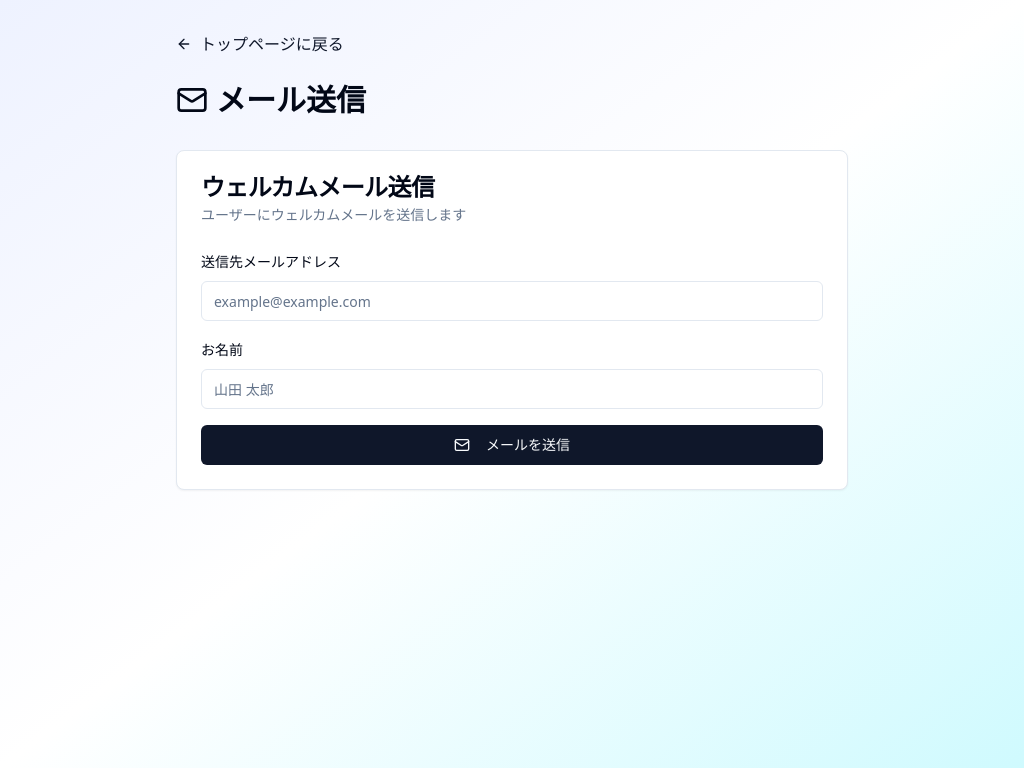
Test case: SendEmailPage Integration › handles API errors gracefully
Type "test@example.com" into the field labelled "送信先メールアドレス" at (512, 301), box x1=201 y1=281 x2=823 y2=321
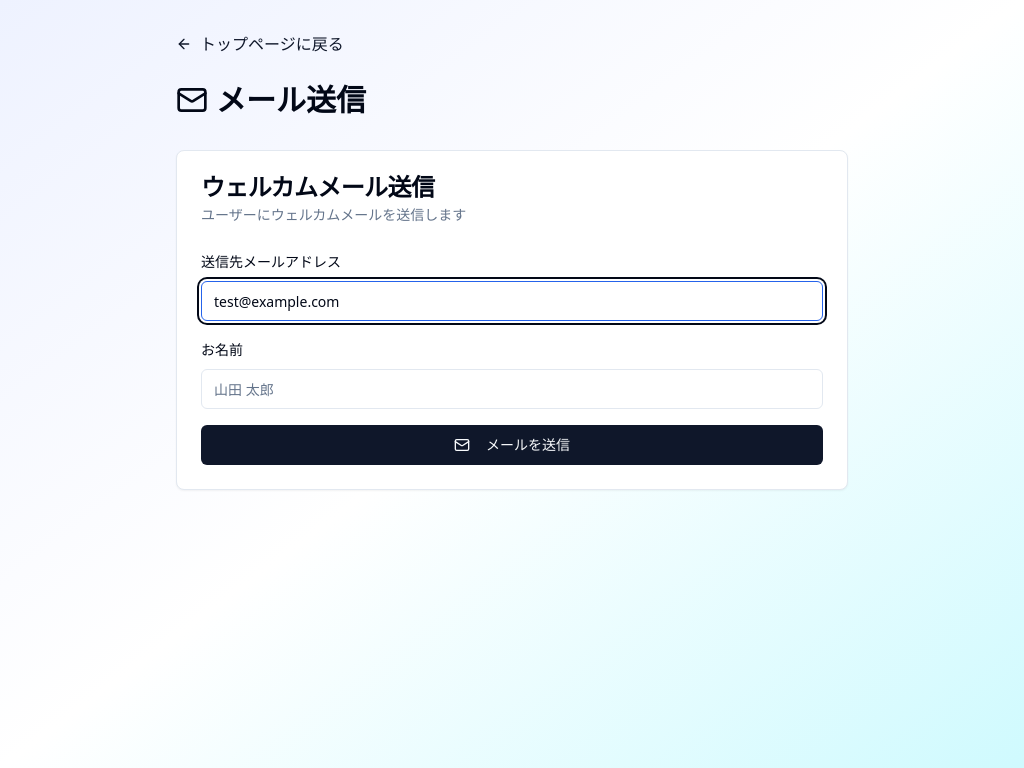
Type "Test User" into the field labelled "お名前" at (512, 389), box x1=201 y1=369 x2=823 y2=409
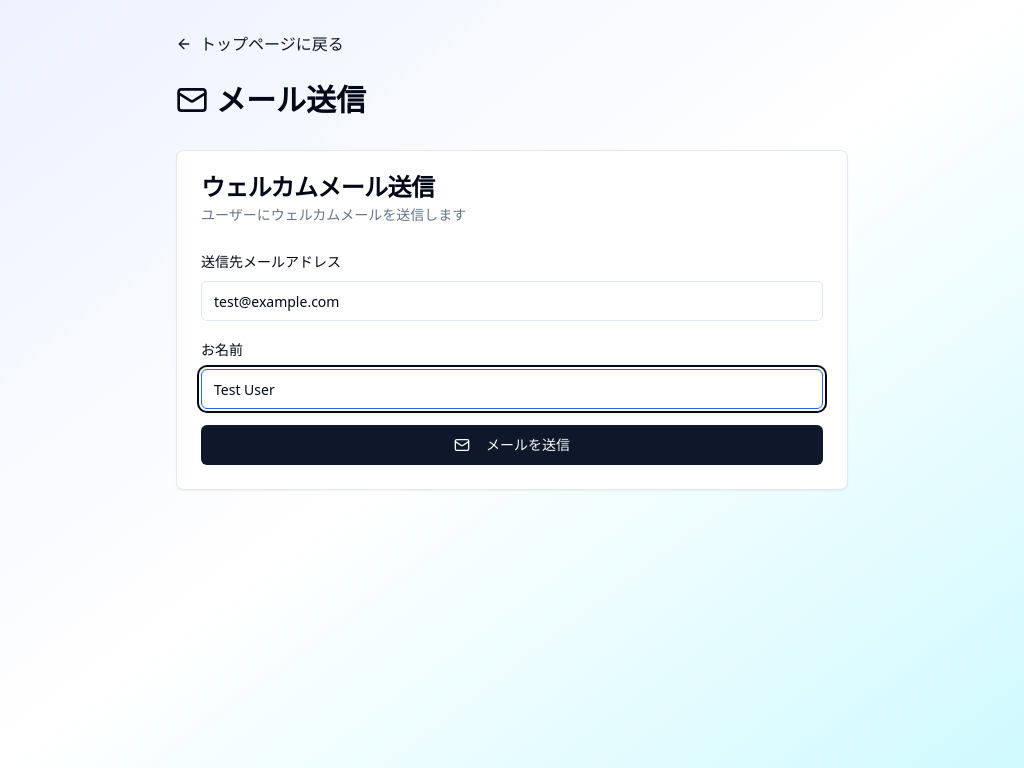
Click the button "メールを送信" at (512, 445), box x1=201 y1=425 x2=823 y2=465
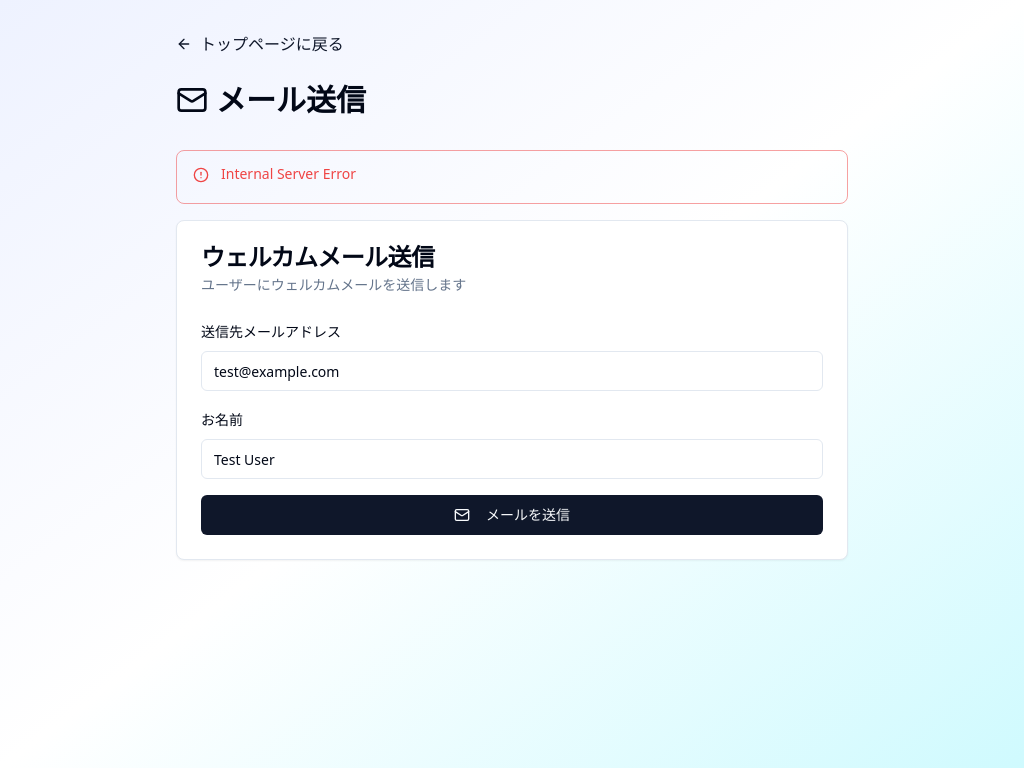
Expected: the text "Internal Server Error" is shown, x1=221 y1=164 x2=356 y2=183
